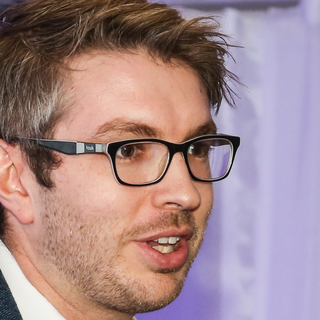eye: (108, 138, 147, 162), (181, 136, 213, 161)
